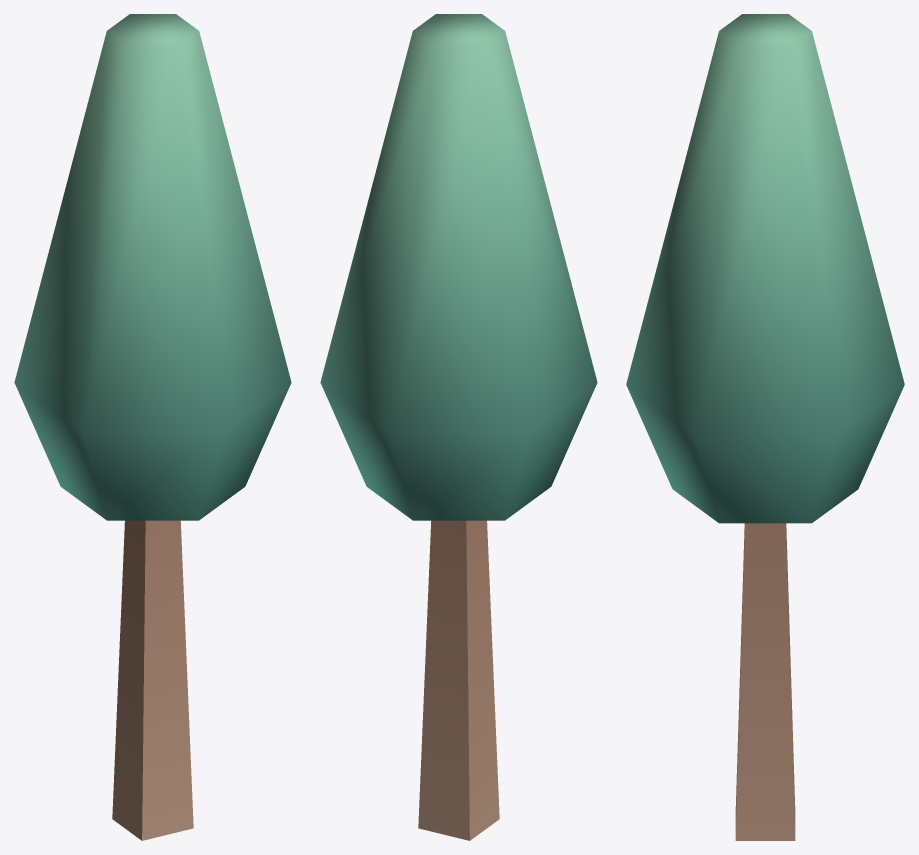
The model's file is tree-large.glb.
The picture shows the model from 3 angles, left to right: view 1: azimuth 30°, elevation 25°; view 2: azimuth 150°, elevation 25°; view 3: azimuth 270°, elevation 25°; orthographic projection.
Parts seen in each view (by area): view 1: tree-large; view 2: tree-large; view 3: tree-large.
Boxes of the visible parts, left/top/right/bottom form: tree-large: left=14, top=14, right=291, bottom=840; tree-large: left=320, top=14, right=597, bottom=840; tree-large: left=626, top=14, right=904, bottom=840.
Bounding box in the file's own units: 0.2104 × 0.767 × 0.243.
